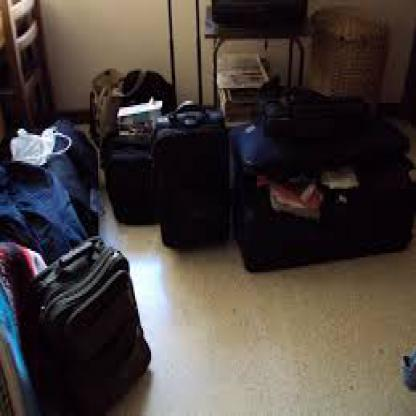maleta: (225, 94, 414, 274), (150, 99, 235, 257)
morral: (20, 231, 170, 414)
